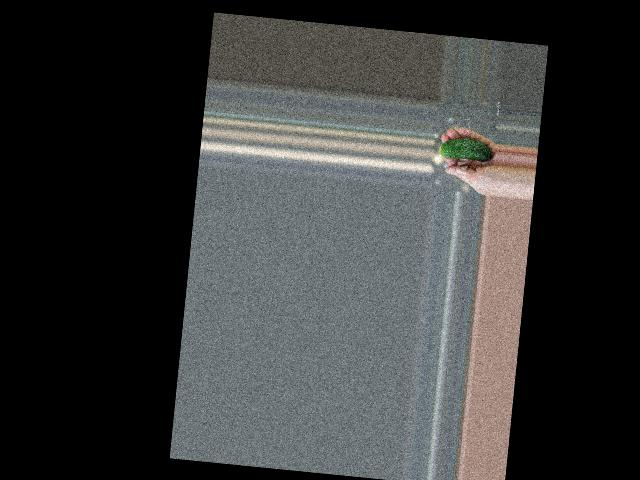cucumber: (440, 135, 493, 162)
